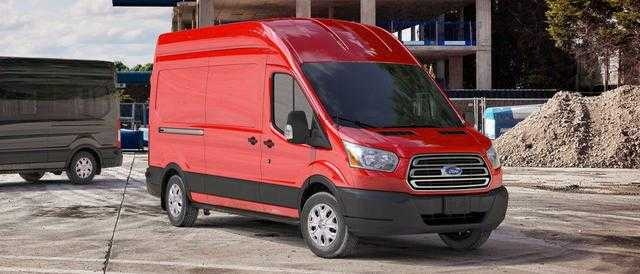van: (143, 16, 508, 260)
